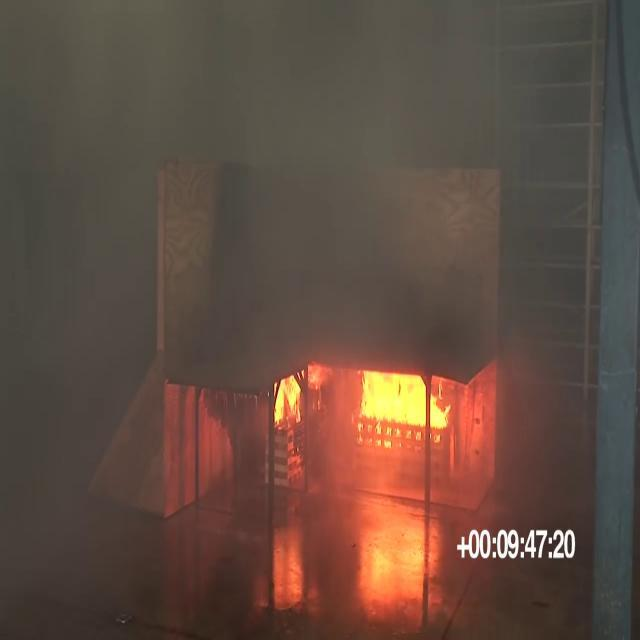Fire: (271, 362, 493, 612)
Smoke: (160, 11, 502, 340), (0, 2, 153, 331)
